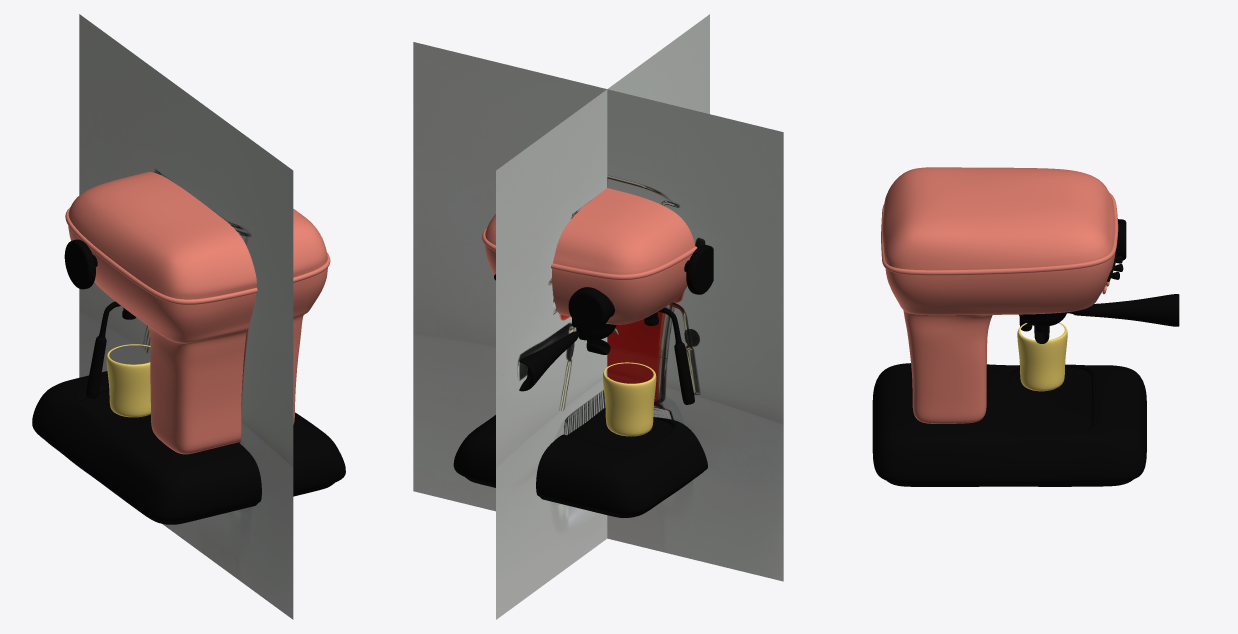
Rendered from Retro_Red_Caffee_Machine.glb.
The picture shows the model from 3 angles, left to right: view 1: azimuth 30°, elevation 25°; view 2: azimuth 150°, elevation 25°; view 3: azimuth 270°, elevation 25°; orthographic projection. The views are drawn at different scales.
Parts seen in each view (by area): view 1: 25, 3, 4, 18, 6, 5, 12; view 2: 24, 25, 4, 3, 18, 7, 20, 5, 6, 12; view 3: 3, 4, 18, 20, 6.
Part boxes in pixels (x1,y1,x2,y2): 25: (79, 14, 293, 619); 3: (68, 172, 327, 454); 4: (32, 371, 345, 524); 18: (106, 344, 150, 417); 6: (65, 207, 330, 304); 5: (64, 239, 97, 289); 12: (86, 301, 120, 398); 24: (413, 42, 783, 581); 25: (496, 14, 709, 619); 4: (453, 407, 707, 517); 3: (484, 188, 694, 324); 18: (603, 362, 656, 436); 7: (568, 287, 614, 329); 20: (519, 331, 579, 391); 5: (684, 245, 713, 294); 6: (482, 226, 697, 279); 12: (658, 307, 694, 404); 3: (882, 167, 1115, 423); 4: (872, 363, 1146, 486); 18: (1017, 322, 1067, 391); 20: (1067, 294, 1179, 326); 6: (881, 192, 1118, 275).
Bounding box in the file's own units: 0.0755 × 0.0875 × 0.0755.
Materials: 8 (2 with a texture image).
